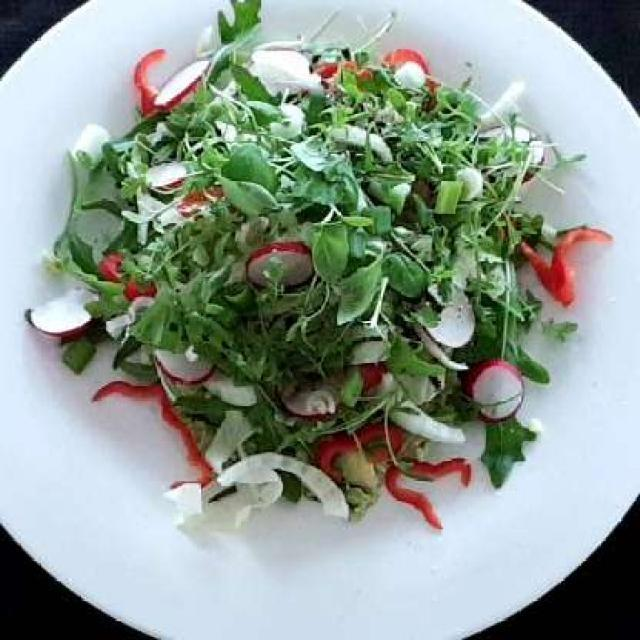avocado: (335, 452, 375, 497)
cake: (187, 74, 519, 519)
salad: (44, 30, 593, 508)
